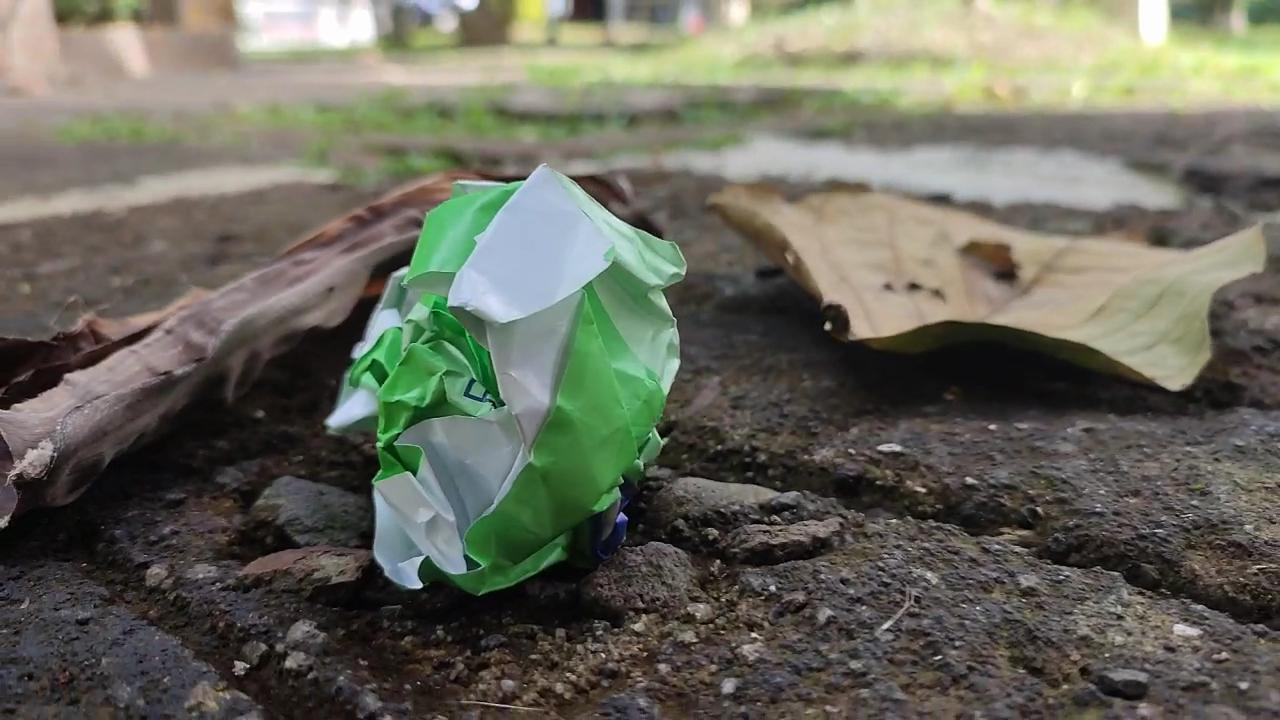Paper: (332, 148, 685, 618)
